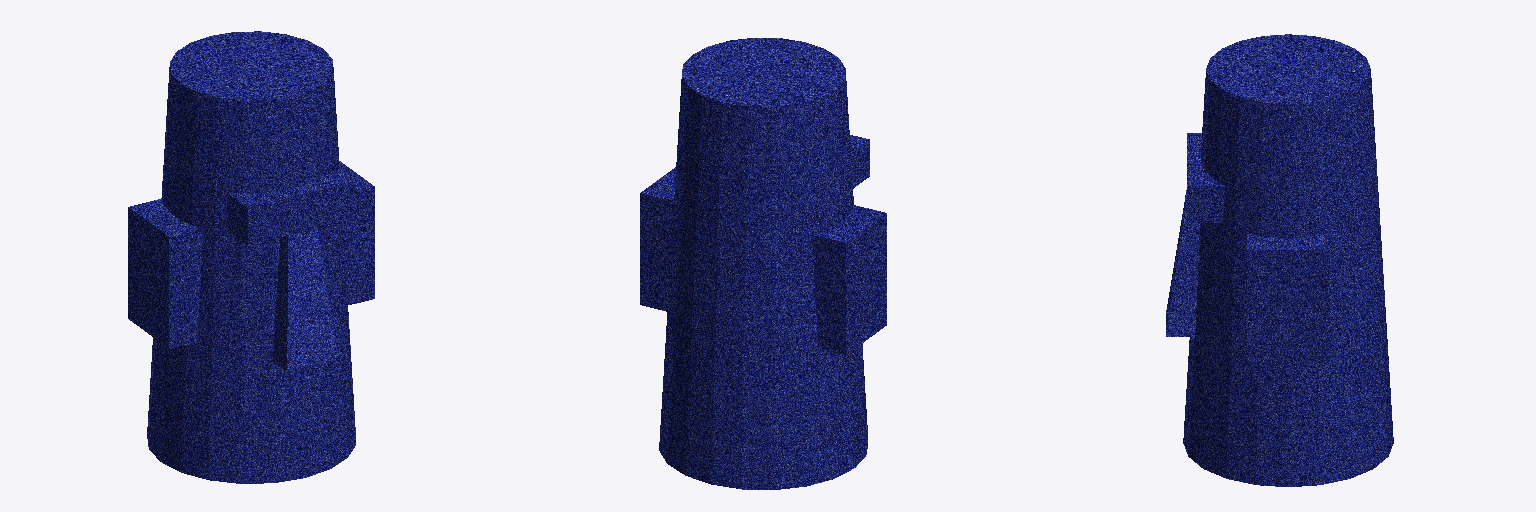
3 views of the same model, side by side, from view 1: azimuth 30°, elevation 25°; view 2: azimuth 150°, elevation 25°; view 3: azimuth 270°, elevation 25° (orthographic).
Visible parts, largest first — view 1: pCylinder1, pCube2, pCube4, pCube3, pCube1; view 2: pCylinder1, pCube2, pCube1, pCube3; view 3: pCylinder1, pCube1, pCube4, pCube3.
Part boxes in pixels (x1,y1,x2,y2): pCylinder1: (147, 31, 355, 483); pCube2: (128, 198, 203, 348); pCube4: (273, 228, 338, 371); pCube3: (227, 167, 354, 244); pCube1: (339, 161, 374, 304); pCylinder1: (659, 38, 867, 489); pCube2: (812, 205, 886, 354); pCube1: (640, 167, 675, 311); pCube3: (850, 135, 869, 188); pCylinder1: (1183, 34, 1393, 486); pCube1: (1247, 234, 1329, 361); pCube4: (1166, 190, 1199, 336); pCube3: (1187, 133, 1225, 222).
Bounding box in the file's own units: 2.88 × 5 × 2.76.
2 materials, 2 textured.